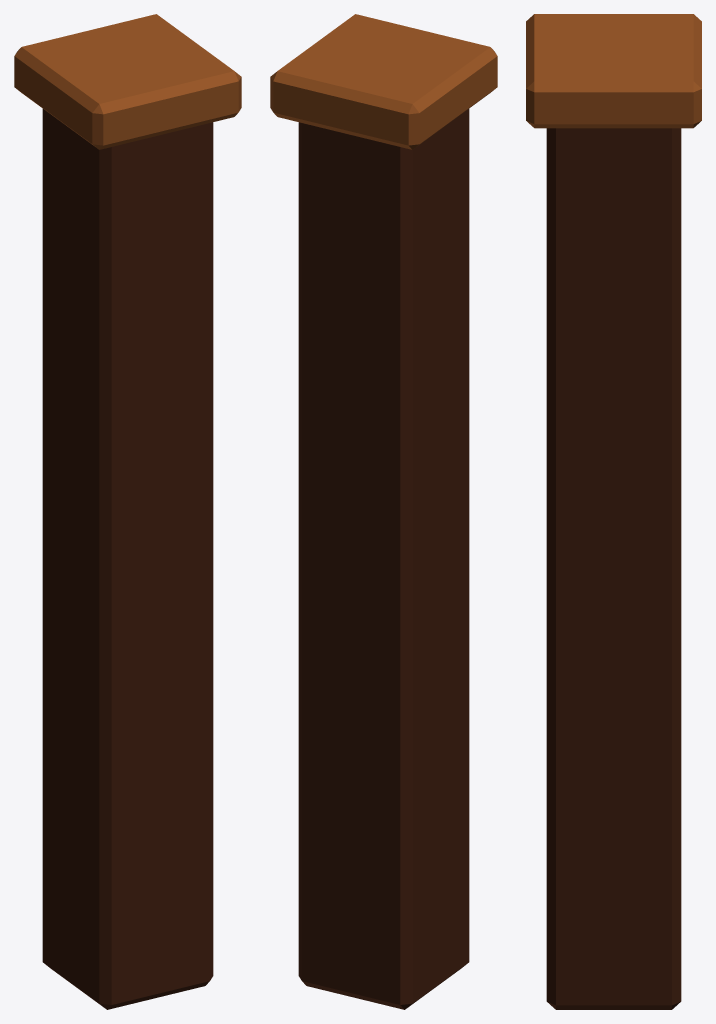
File: D32_Rail_Post_1m.fbx
3 renders of one model, left to right at view 1: azimuth 30°, elevation 25°; view 2: azimuth 150°, elevation 25°; view 3: azimuth 270°, elevation 25°, orthographic. The views are drawn at different scales.
Visible parts, largest first — view 1: D32_Rail_Post_1m; view 2: D32_Rail_Post_1m; view 3: D32_Rail_Post_1m.
Boxes of the visible parts, x1,y1,x2,y2 form: D32_Rail_Post_1m: (14,14,241,1009); D32_Rail_Post_1m: (270,14,497,1009); D32_Rail_Post_1m: (526,14,701,1009).
Size of the model in its own units: 0.17 by 1 by 0.17.
2 materials, 2 textured.
